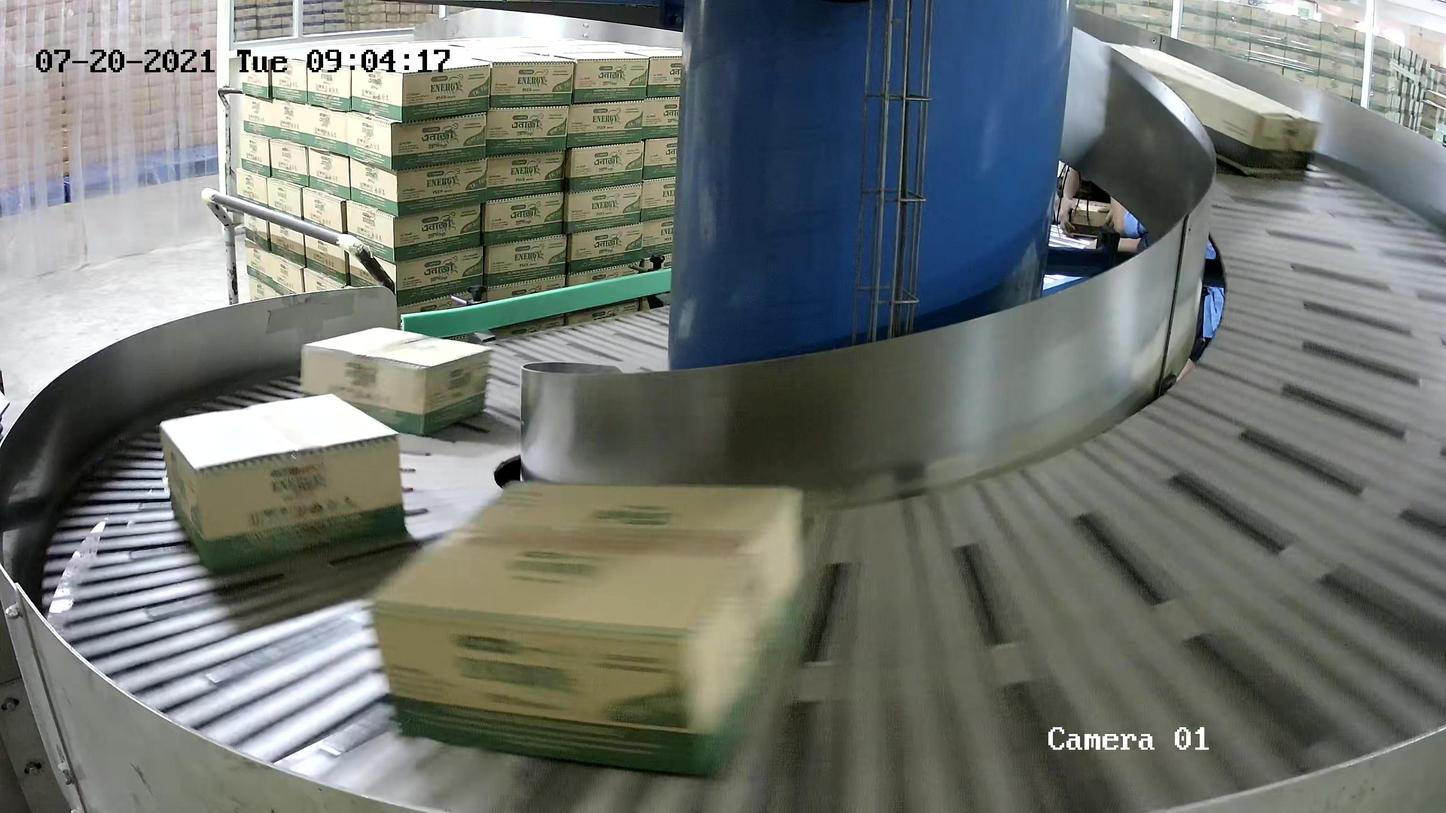Box: (368, 474, 811, 783), (158, 390, 408, 575), (1093, 37, 1324, 177), (299, 325, 494, 437)
